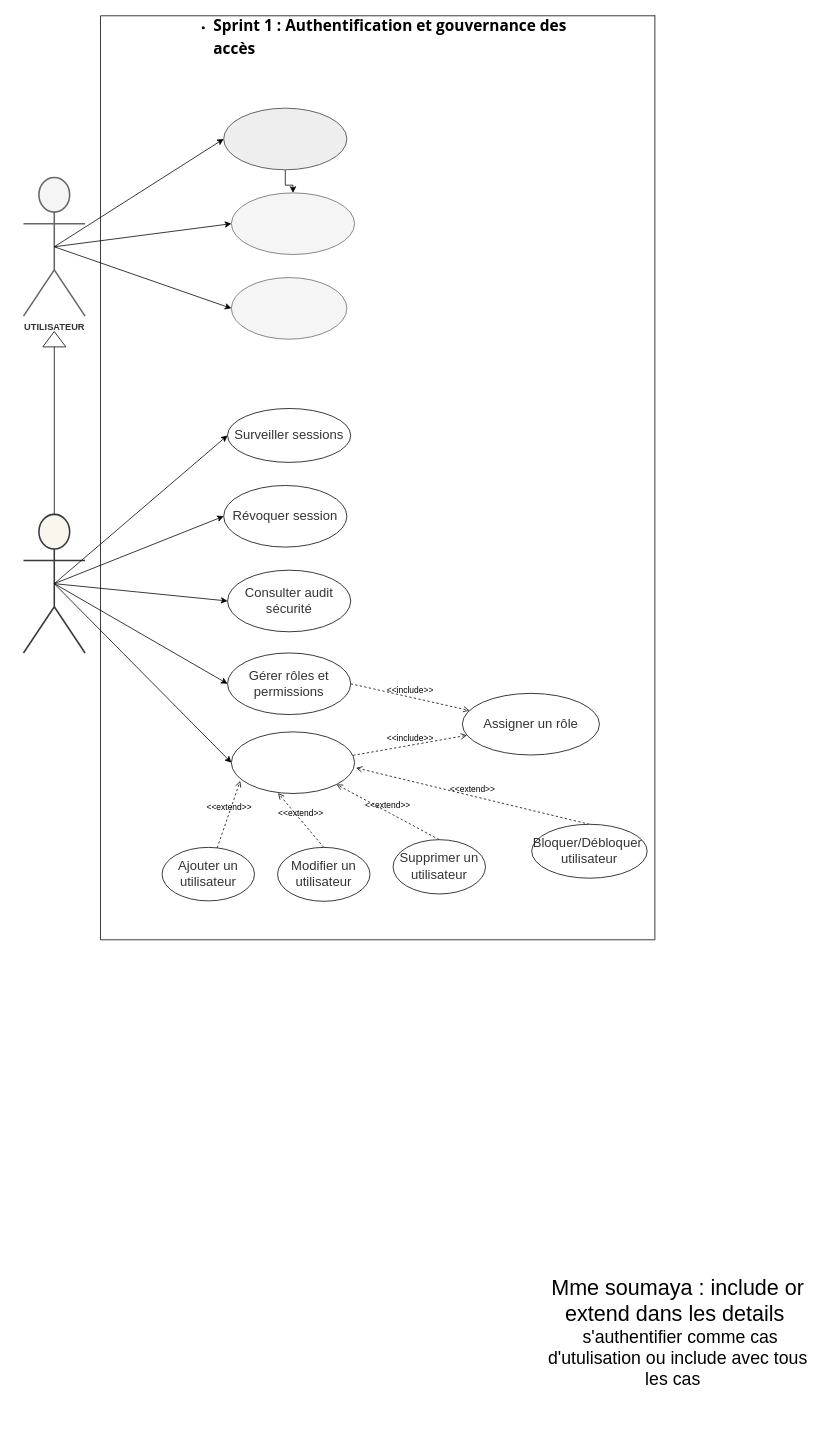
Image size: 829x1430. Some labels were removed from this diagram. The shapes that lost their labels are listed below. From the top down, each one's centre as x and y in pixels, then its label:
(x=285, y=138): S'authentifier
(x=293, y=223): Se déconnecter
(x=289, y=308): Réinitialiser mot de passe
(x=53, y=583): ADMINISTRATEUR
(x=293, y=762): Gérer utilisateurs
